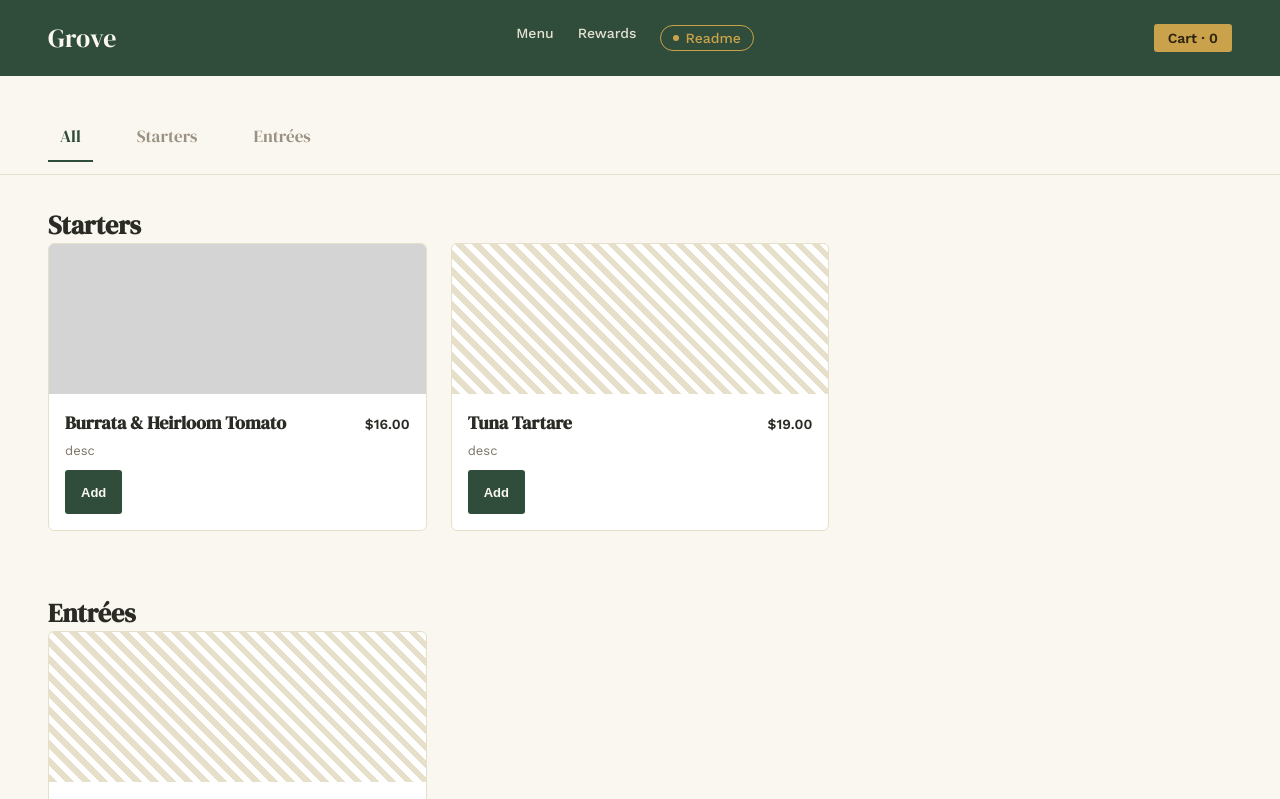
Test case: MenuView › increments the header cart-pill count when adding an item
expect the link with class "cart-pill" reads "Cart · 0": met, box [1154,24,1232,52]
Click the button with class "add-button" below "Burrata & Heirloom Tomato".
click(94, 492)  # box [65,470,122,514]
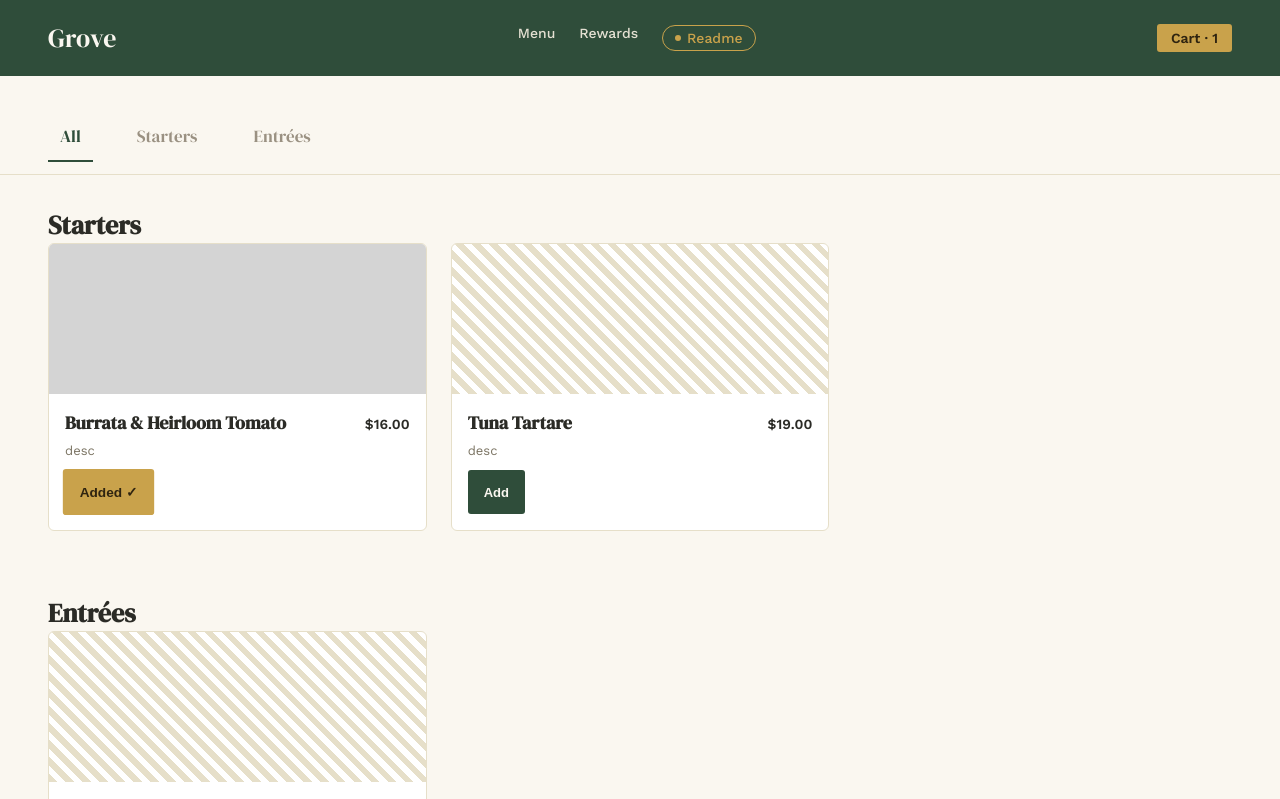
expect the link with class "cart-pill" reads "Cart · 1": met, box [1157,24,1232,52]
